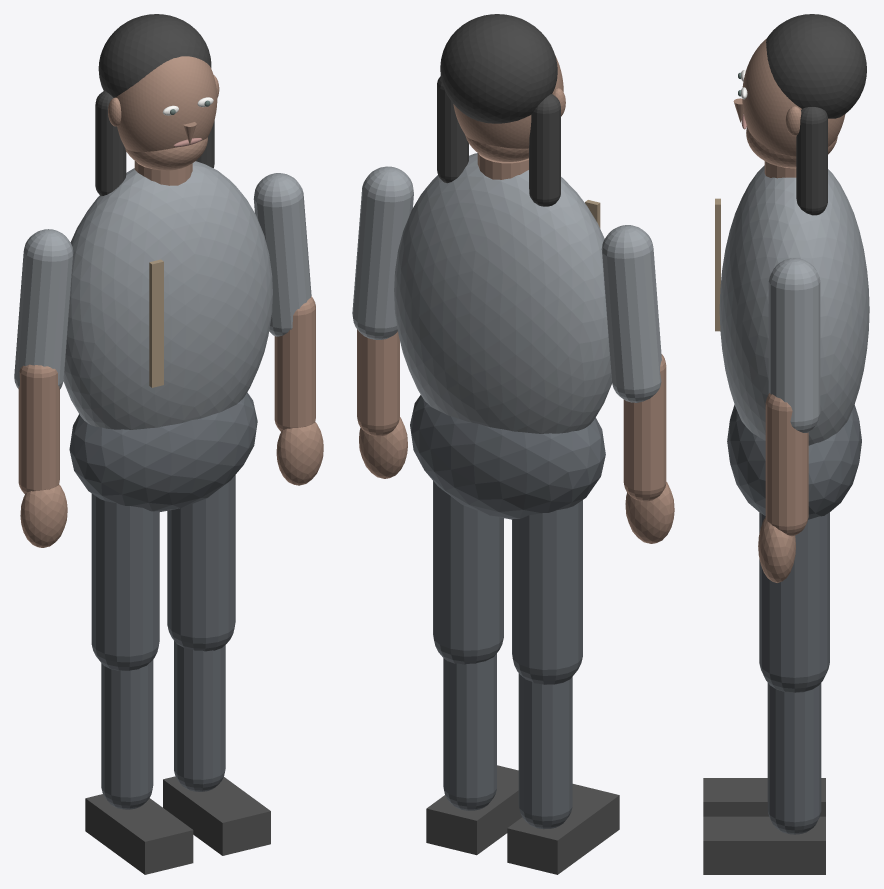
File: council-mirror-human-v1.glb
3 views of the same model, side by side, from view 1: azimuth 30°, elevation 25°; view 2: azimuth 150°, elevation 25°; view 3: azimuth 270°, elevation 25° (orthographic). The views are drawn at different scales.
Parts seen in each view (by area): view 1: mirror-torso, mirror-pelvis, mirror-thigh-left, mirror-thigh-right, mirror-calf-left, mirror-calf-right, mirror-head, mirror-upper-arm-left, mirror-upper-arm-right, mirror-shoe-left, mirror-shoe-right, mirror-hair-cap (+8 smaller); view 2: mirror-torso, mirror-pelvis, mirror-thigh-left, mirror-thigh-right, mirror-hair-cap, mirror-upper-arm-left, mirror-calf-left, mirror-calf-right, mirror-upper-arm-right, mirror-shoe-left, mirror-forearm-left, mirror-shoe-right (+8 smaller); view 3: mirror-torso, mirror-thigh-right, mirror-upper-arm-right, mirror-hair-cap, mirror-calf-right, mirror-shoe-right, mirror-pelvis, mirror-forearm-right, mirror-head, mirror-hair-right, mirror-shoe-left, mirror-hand-right (+4 smaller).
Part boxes in pixels (x1,y1,x2,y2): mirror-torso: (63,161,272,429); mirror-pelvis: (69,392,257,512); mirror-thigh-left: (91,493,159,670); mirror-thigh-right: (167,475,235,651); mirror-calf-left: (101,660,153,809); mirror-calf-right: (174,641,225,791); mirror-head: (115,56,217,151); mirror-upper-arm-left: (14,229,73,389); mirror-upper-arm-right: (253,173,311,336); mirror-shoe-left: (85,794,193,874); mirror-shoe-right: (163,776,270,855); mirror-hair-cap: (98,14,211,97); mirror-torso: (394,153,611,433); mirror-pelvis: (410,395,605,519); mirror-thigh-left: (512,500,582,684); mirror-thigh-right: (433,481,503,664); mirror-hair-cap: (440,14,557,123); mirror-upper-arm-left: (601,225,661,402); mirror-calf-left: (518,673,572,829); mirror-calf-right: (443,653,496,810); mirror-upper-arm-right: (352,166,413,339); mirror-shoe-left: (507,784,619,874); mirror-forearm-left: (623,354,666,501); mirror-shoe-right: (426,765,521,855); mirror-torso: (719,165,869,445); mirror-thigh-right: (759,512,829,692); mirror-upper-arm-right: (768,258,820,432); mirror-hair-cap: (766,14,866,118); mirror-calf-right: (767,683,821,834); mirror-shoe-right: (703,816,825,874); mirror-pelvis: (727,404,861,519); mirror-forearm-right: (765,393,808,536); mirror-head: (742,39,845,156); mirror-hair-right: (796,107,827,215); mirror-shoe-left: (703,778,825,816); mirror-hand-right: (758,517,795,582).
Size of the model in its own units: 0.6903 by 1.76 by 0.3225.
